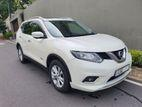car: (16, 16, 133, 94)
